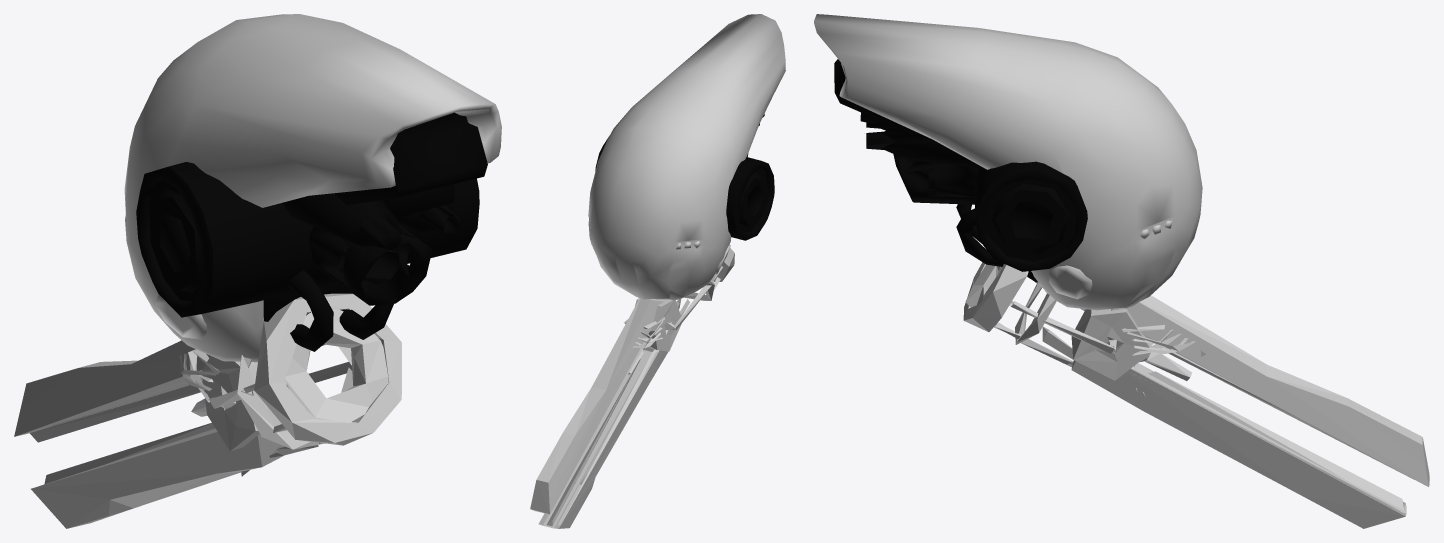
File: drone.gltf
3 renders of one model, left to right at view 1: azimuth 30°, elevation 25°; view 2: azimuth 150°, elevation 25°; view 3: azimuth 270°, elevation 25°, orthographic. The views are drawn at different scales.
Visible parts, largest first — view 1: Body_Front, Body_Back, HandRailGun; view 2: Body_Front, HandRailGun, Body_Back; view 3: Body_Front, HandRailGun, Body_Back.
Part boxes in pixels (x1=…): Body_Front: x1=124, y1=14, x2=501, y2=362; Body_Back: x1=136, y1=112, x2=487, y2=351; HandRailGun: x1=14, y1=293, x2=401, y2=528; Body_Front: x1=588, y1=14, x2=785, y2=300; HandRailGun: x1=530, y1=248, x2=734, y2=528; Body_Back: x1=595, y1=114, x2=774, y2=240; Body_Front: x1=814, y1=14, x2=1202, y2=310; HandRailGun: x1=963, y1=262, x2=1429, y2=528; Body_Back: x1=834, y1=59, x2=1087, y2=282.
Bounding box in the file's own units: 1.76 × 4.24 × 4.69.
